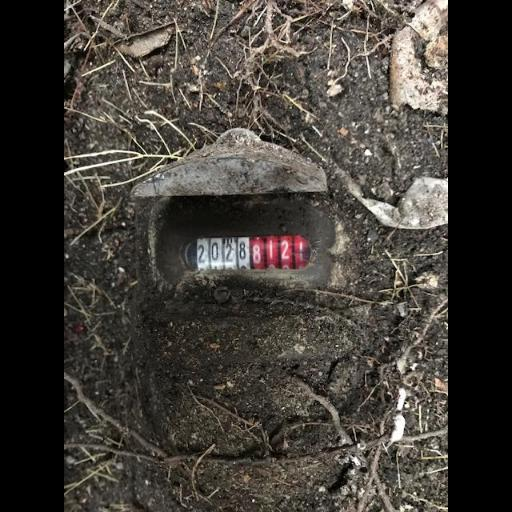0: (209, 238, 224, 270)
1: (265, 235, 280, 269), (293, 235, 307, 269)
2: (222, 237, 238, 269), (278, 234, 292, 268), (195, 239, 209, 270)
8: (250, 236, 265, 269), (237, 237, 252, 269)
border_water_meter_number: (180, 233, 313, 275)
